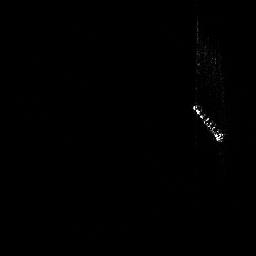ship: (191, 103, 225, 144)
